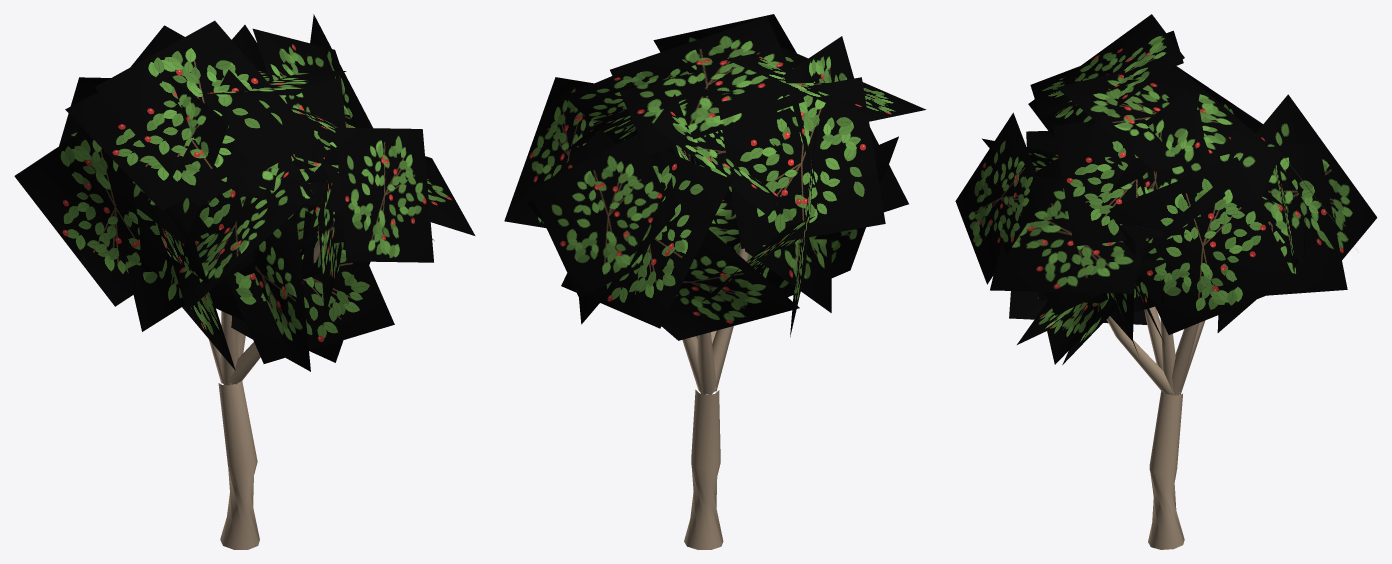
Rendered from malus-domestica.glb.
The picture shows the model from 3 angles, left to right: view 1: azimuth 30°, elevation 25°; view 2: azimuth 150°, elevation 25°; view 3: azimuth 270°, elevation 25°; orthographic projection. The views are drawn at different scales.
Parts seen in each view (by area): view 1: folhas, tronco; view 2: folhas, tronco; view 3: folhas, tronco.
Boxes of the visible parts, x1=… form: folhas: x1=14, y1=14, x2=475, y2=371; tronco: x1=208, y1=240, x2=320, y2=549; folhas: x1=504, y1=14, x2=926, y2=340; tronco: x1=682, y1=244, x2=749, y2=549; folhas: x1=955, y1=14, x2=1377, y2=364; tronco: x1=1106, y1=306, x2=1205, y2=549.
Bounding box in the file's own units: 3.51 × 5 × 4.
2 materials, 1 textured.
